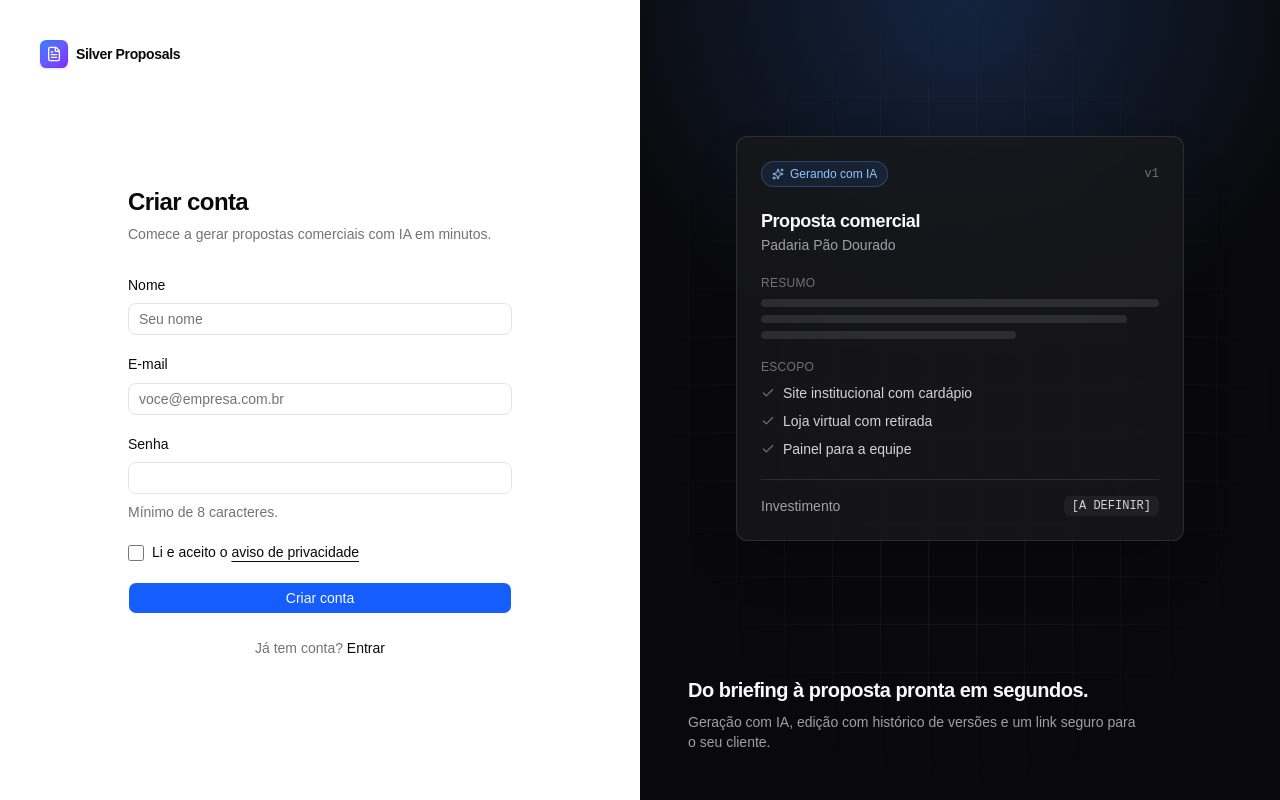
it: RegisterPage › requires a name and a password with at least 8 characters
Type "ana@example.com" into the field labelled "E-mail". click: (320, 398)
box: [128,382,512,414]
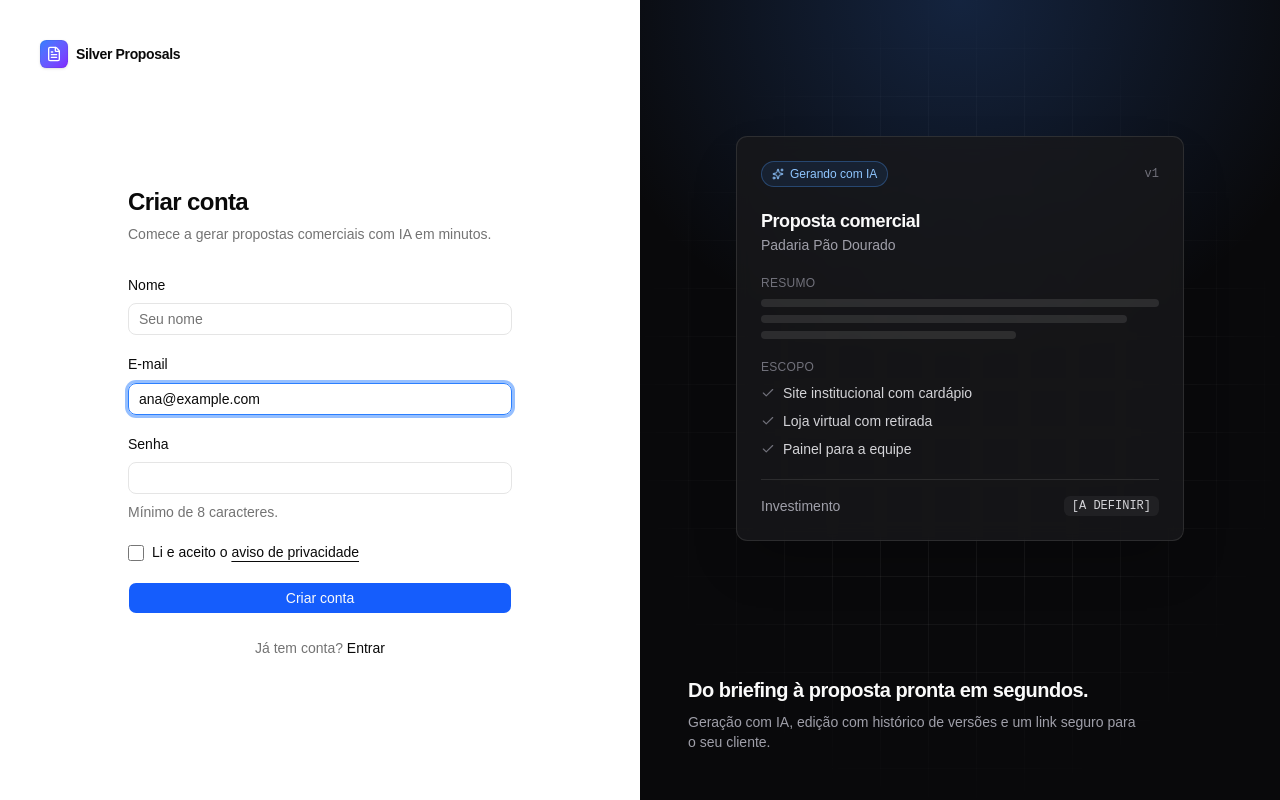
Type "curta" into the password field labelled "Senha". click: (320, 478)
box: [128,462,512,494]
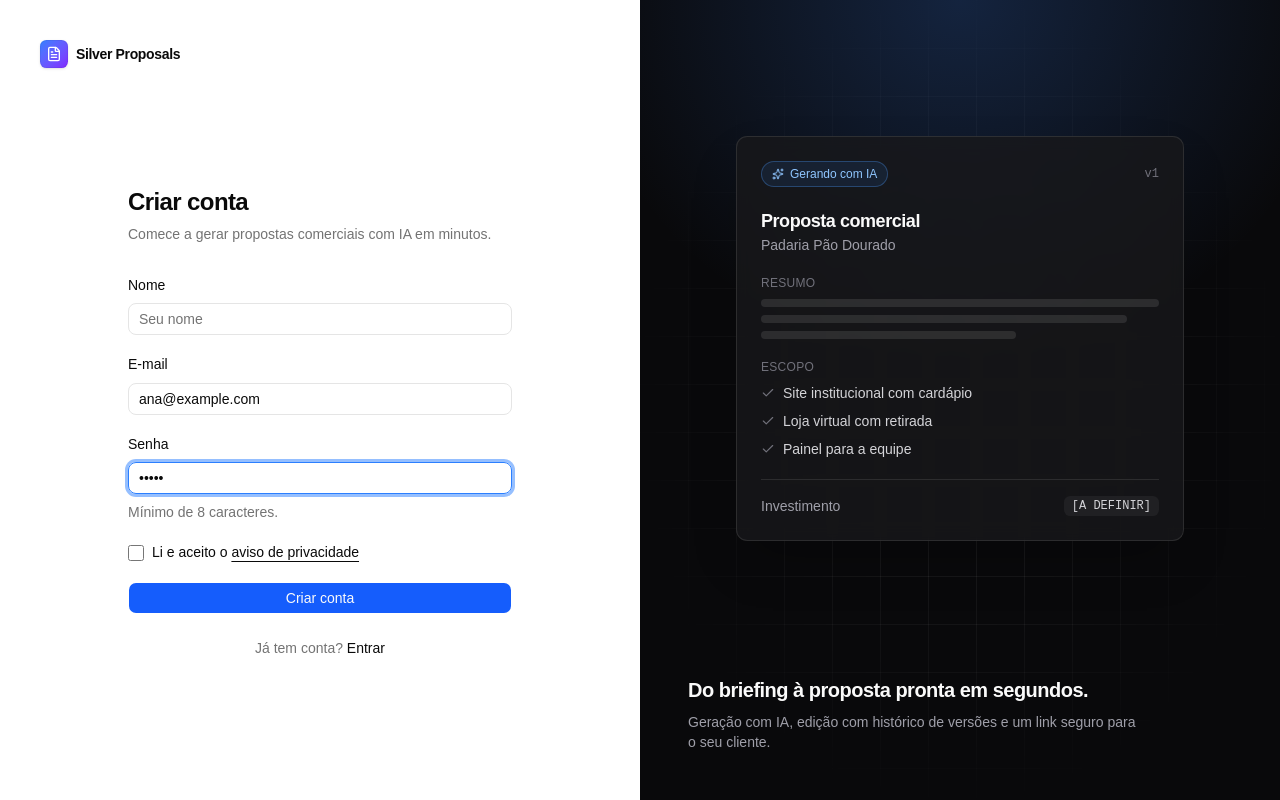
Click the checkbox labelled "Li e aceito o aviso de privacidade". click: (136, 553)
box: [128,545,144,561]
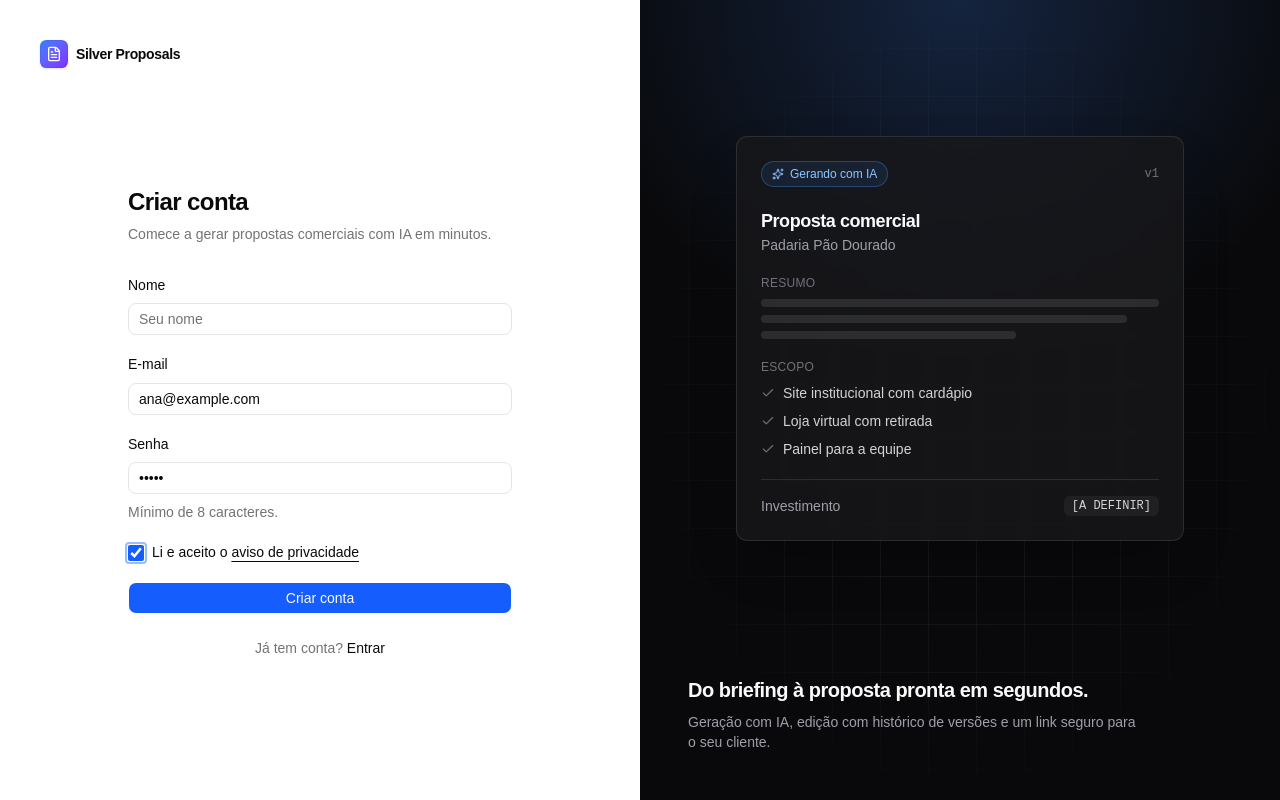
Click the button "Criar conta". click: (320, 598)
box: [128,582,512,614]
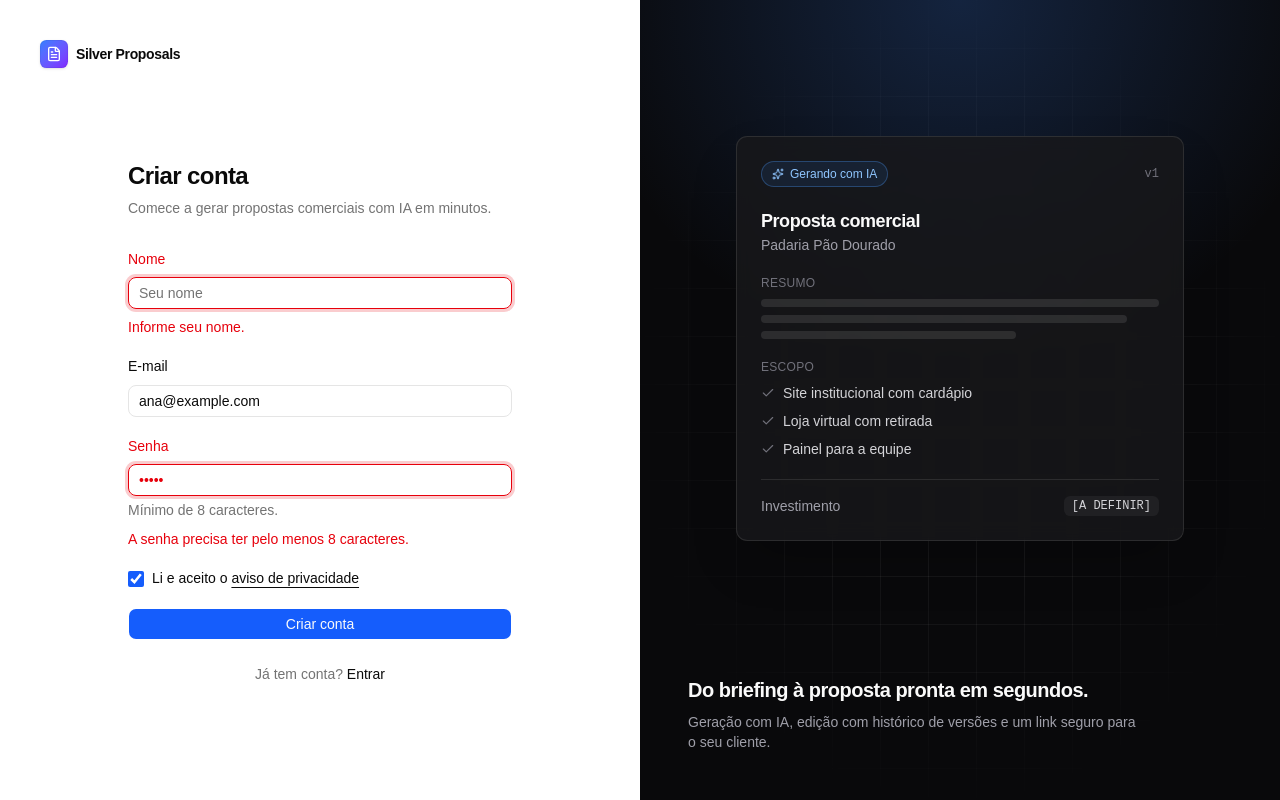
Expected: the text "Informe seu nome." is shown, [128,319,245,335]
Expected: the text "A senha precisa ter pelo menos 8 caracteres." is shown, [128,531,409,547]
